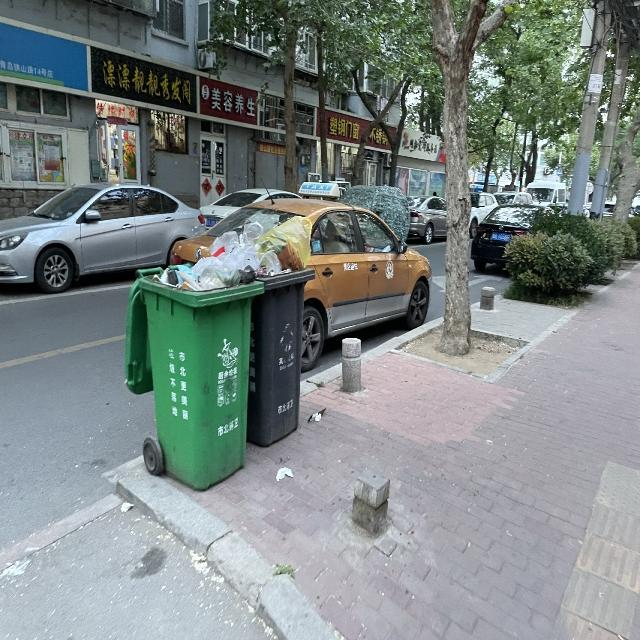overflow: (123, 227, 263, 491), (246, 213, 314, 444)
